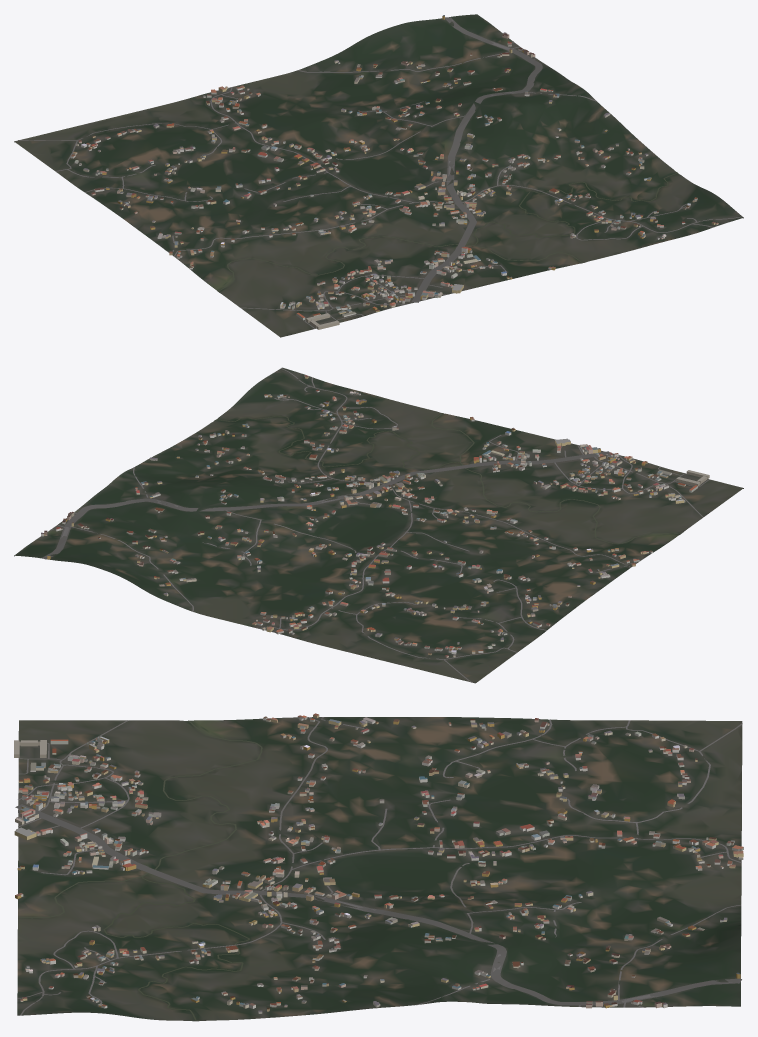
The picture shows the model from 3 angles, top to bottom: view 1: azimuth 30°, elevation 25°; view 2: azimuth 150°, elevation 25°; view 3: azimuth 270°, elevation 25°; orthographic projection. The views are drawn at different scales.
Visible parts, largest first — view 1: ground, buildings, roads, water; view 2: ground, buildings, roads, water; view 3: ground, buildings, roads, water.
Boxes of the visible parts, bbox=[...] form: ground: bbox=[14, 14, 743, 337]; buildings: bbox=[70, 15, 718, 329]; roads: bbox=[18, 17, 742, 328]; water: bbox=[218, 172, 677, 291]; ground: bbox=[14, 367, 743, 683]; buildings: bbox=[41, 375, 709, 657]; roads: bbox=[41, 368, 709, 682]; water: bbox=[214, 413, 680, 543]; ground: bbox=[17, 717, 742, 1021]; buildings: bbox=[14, 713, 743, 1013]; roads: bbox=[15, 717, 742, 1015]; water: bbox=[18, 720, 262, 1020].
Size of the model in its own units: 1411 by 71.3 by 1414.
